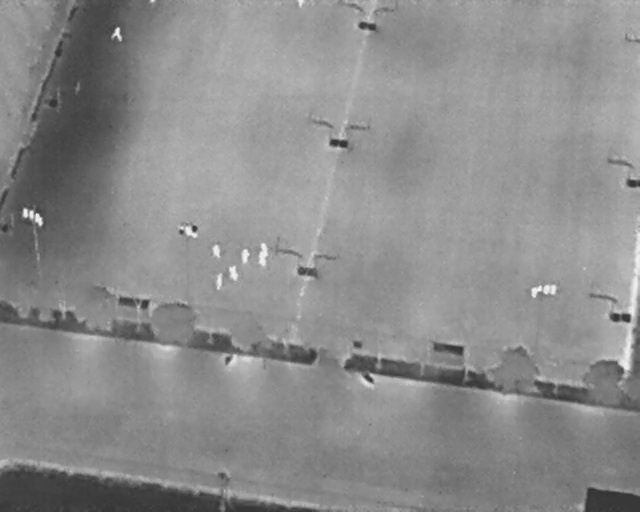Person: (110, 26, 122, 42), (229, 264, 239, 281), (215, 272, 224, 290), (241, 247, 250, 264), (260, 242, 269, 257), (258, 250, 266, 266), (212, 243, 220, 257), (297, 0, 306, 8)
